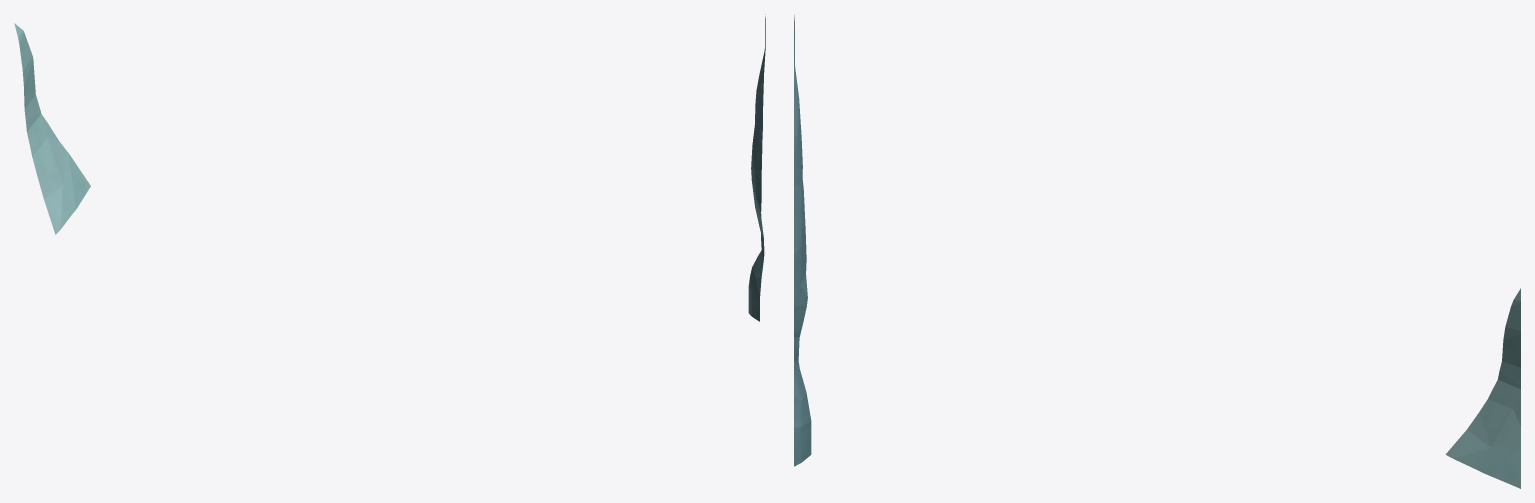
3 renders of one model, left to right at view 1: azimuth 30°, elevation 25°; view 2: azimuth 150°, elevation 25°; view 3: azimuth 270°, elevation 25°, orthographic. The views are drawn at different scales.
Size of the model in its own units: 9.58 by 57.37 by 85.74.
Materials: 1 (1 with a texture image).
